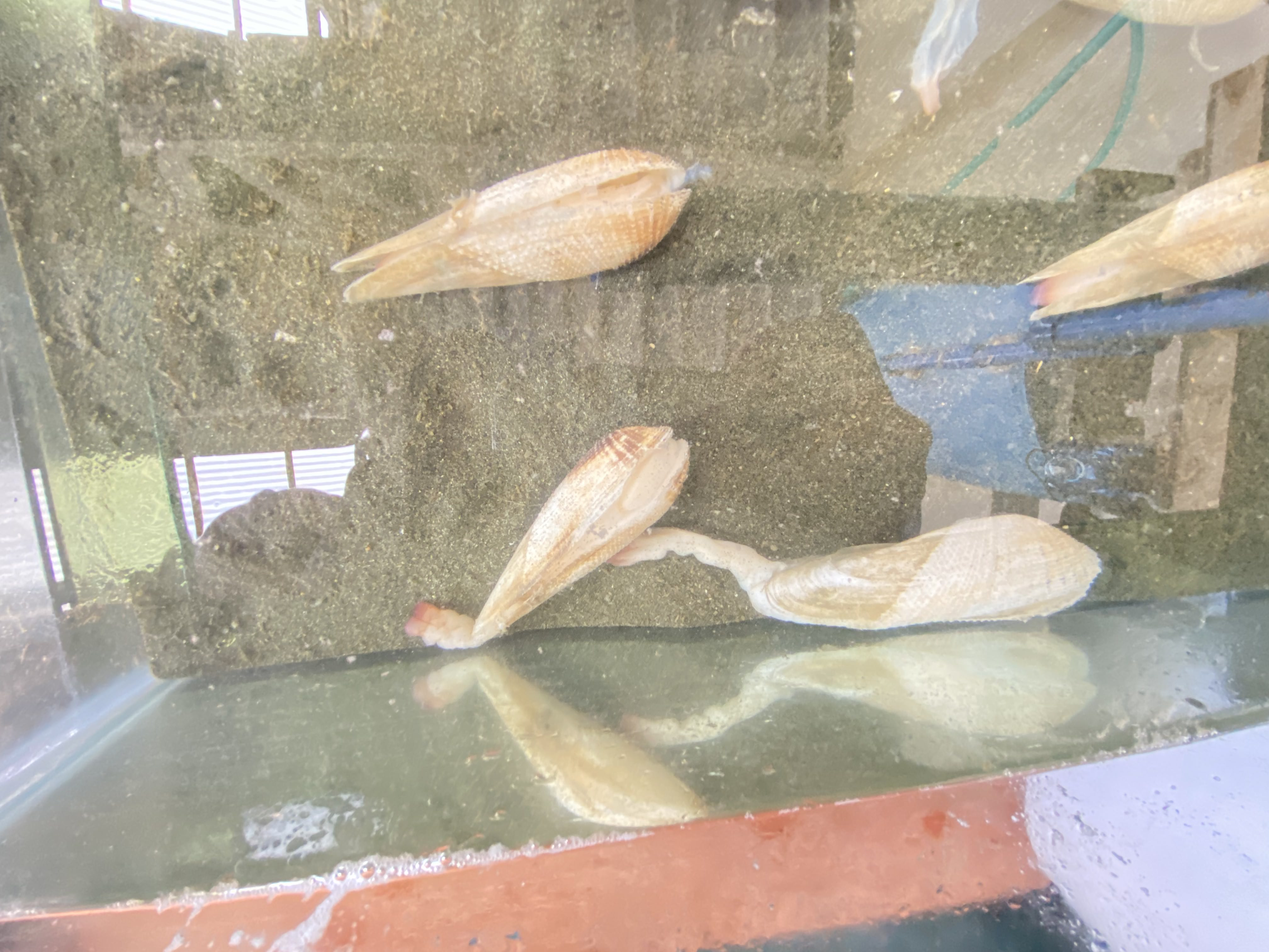At risk: (407, 426, 1100, 648), (332, 149, 690, 302), (1027, 162, 1269, 313)
